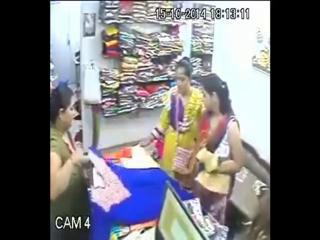Normal: (190, 74, 247, 226), (158, 57, 210, 184), (50, 82, 91, 239)
